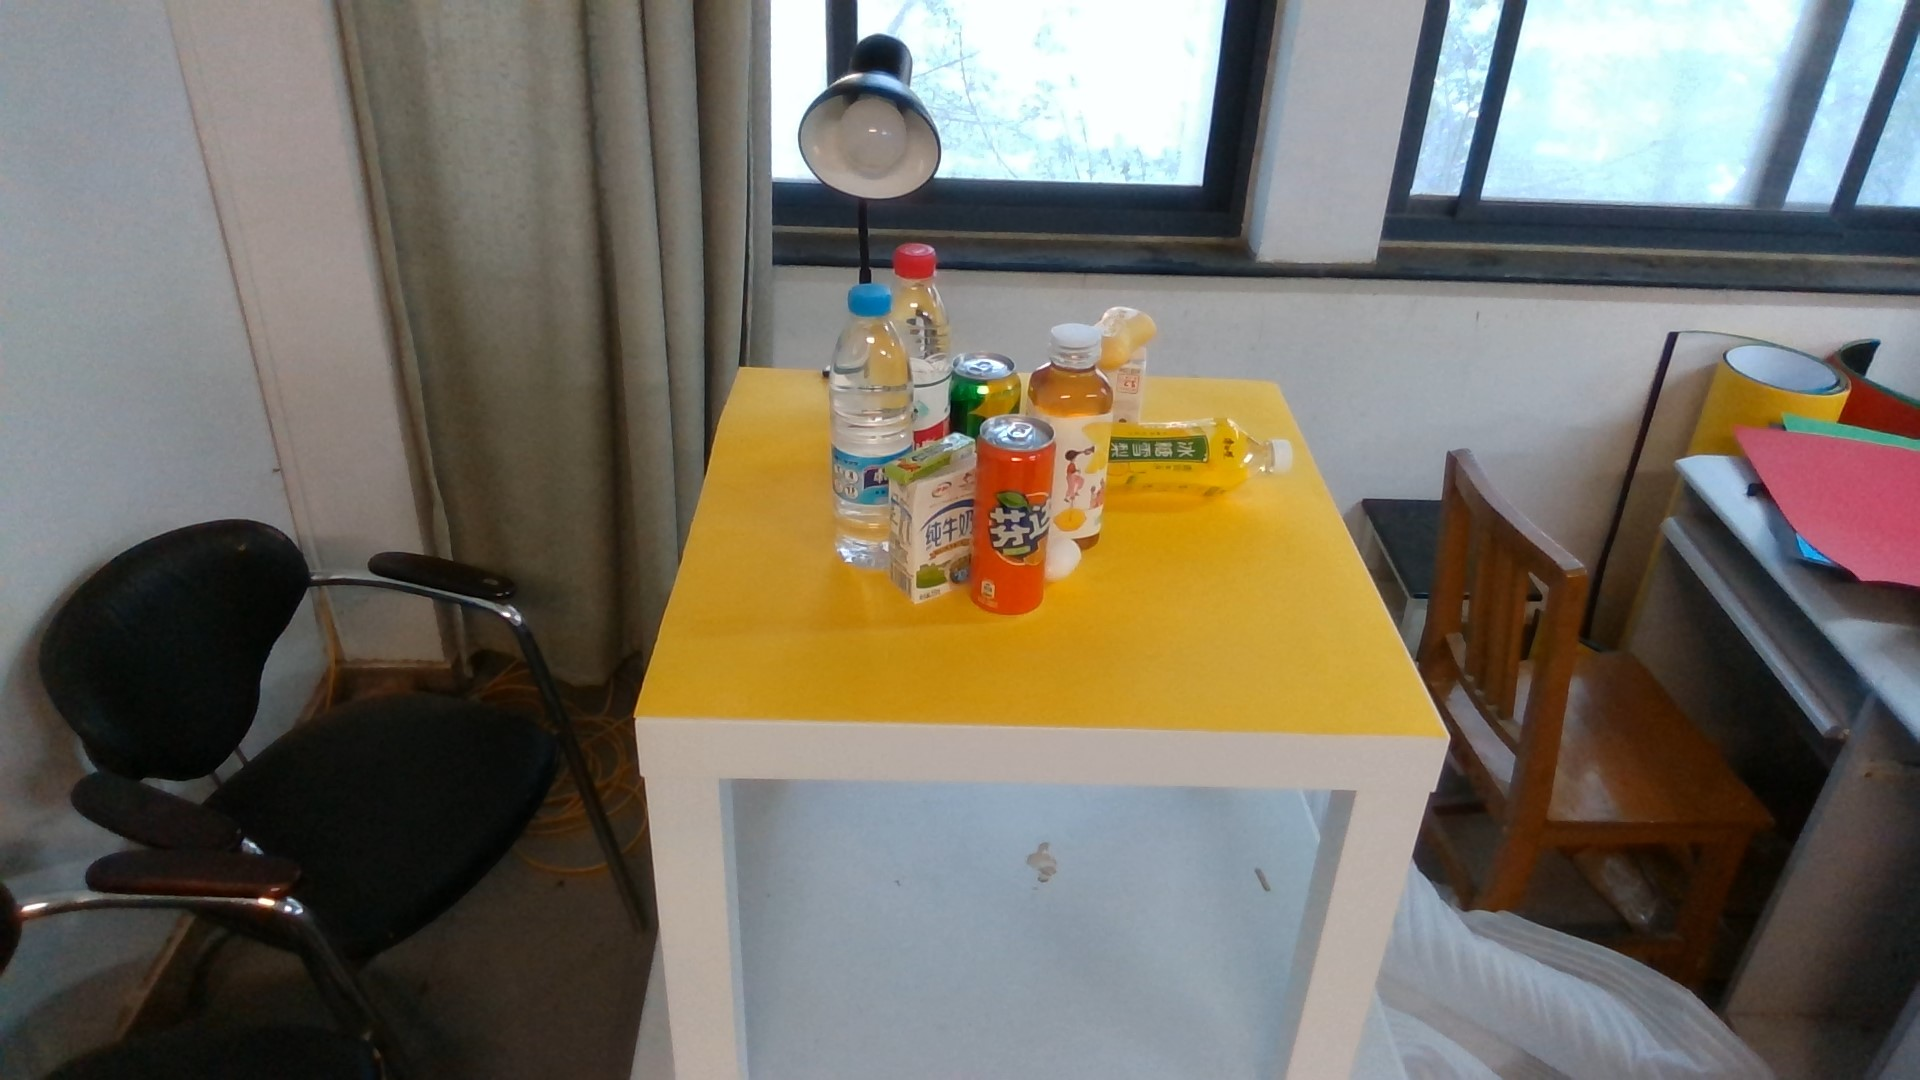BB002: (887, 433, 971, 481)
BB003: (1108, 305, 1154, 364), (1044, 527, 1083, 582)
BB009: (1112, 369, 1145, 414)
BB013: (887, 480, 969, 603)
ZC001: (952, 345, 1019, 419)
ZC003: (973, 415, 1058, 618)
ZC011: (1109, 414, 1294, 502)
ZC012: (1055, 320, 1109, 530)
ZC014: (913, 244, 953, 431)
ZC019: (833, 280, 886, 571)
